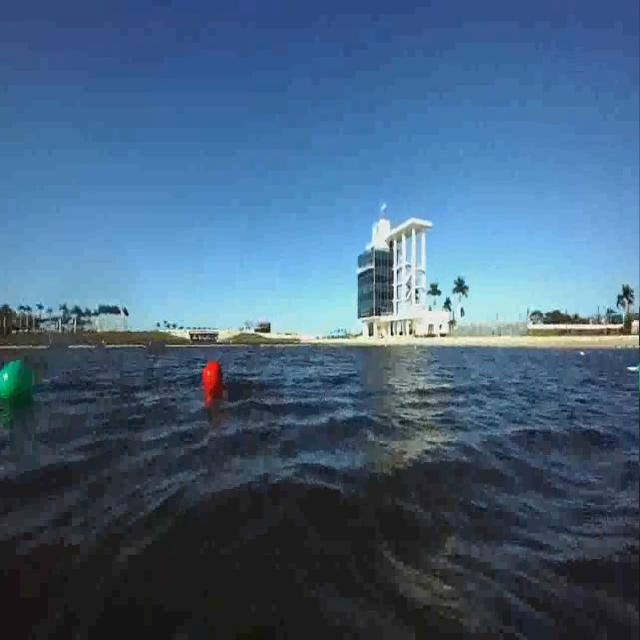green-buoy: (0, 358, 39, 406)
red-buoy: (204, 360, 224, 392)
